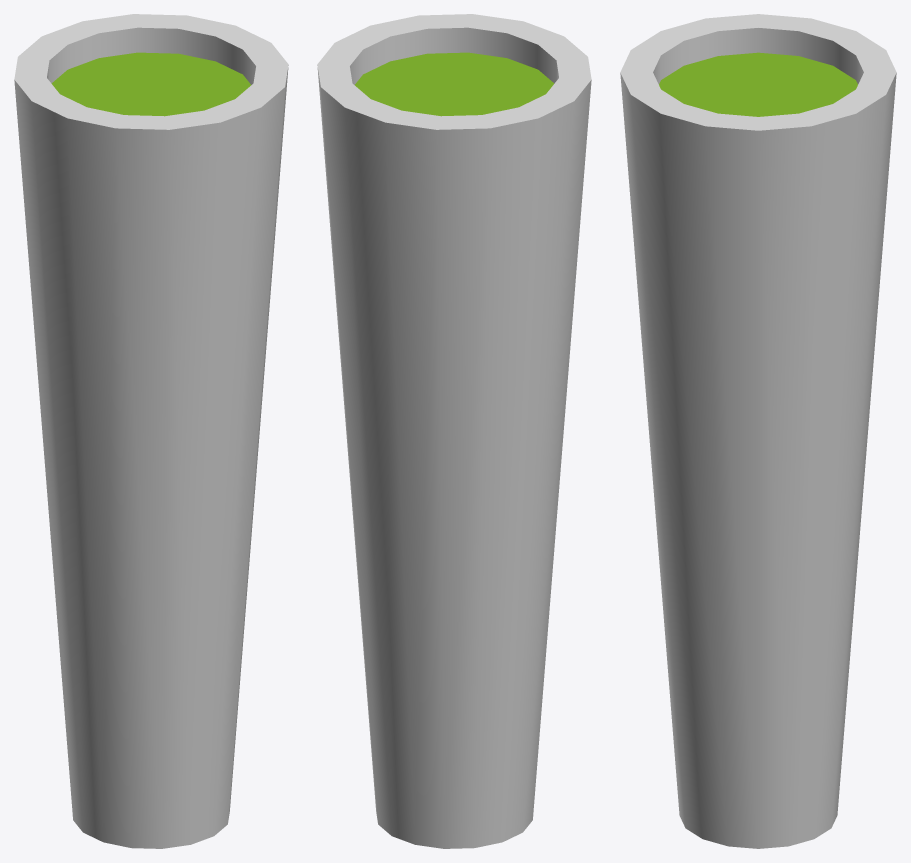
The model's file is plant-2.glb.
3 views of the same model, side by side, from view 1: azimuth 30°, elevation 25°; view 2: azimuth 150°, elevation 25°; view 3: azimuth 270°, elevation 25° (orthographic).
Parts seen in each view (by area): view 1: Nature_Deco_2; view 2: Nature_Deco_2; view 3: Nature_Deco_2.
Boxes of the visible parts, x1,y1,x2,y2 form: Nature_Deco_2: (14,14,288,848); Nature_Deco_2: (317,14,591,848); Nature_Deco_2: (620,14,896,848).
Size of the model in its own units: 0.31 by 0.9197 by 0.31.
1 material, 1 textured.
